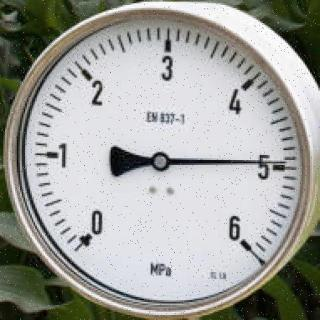gauge: (0, 0, 320, 320), (67, 206, 113, 258), (216, 212, 258, 266), (150, 150, 172, 173), (277, 156, 297, 170)
